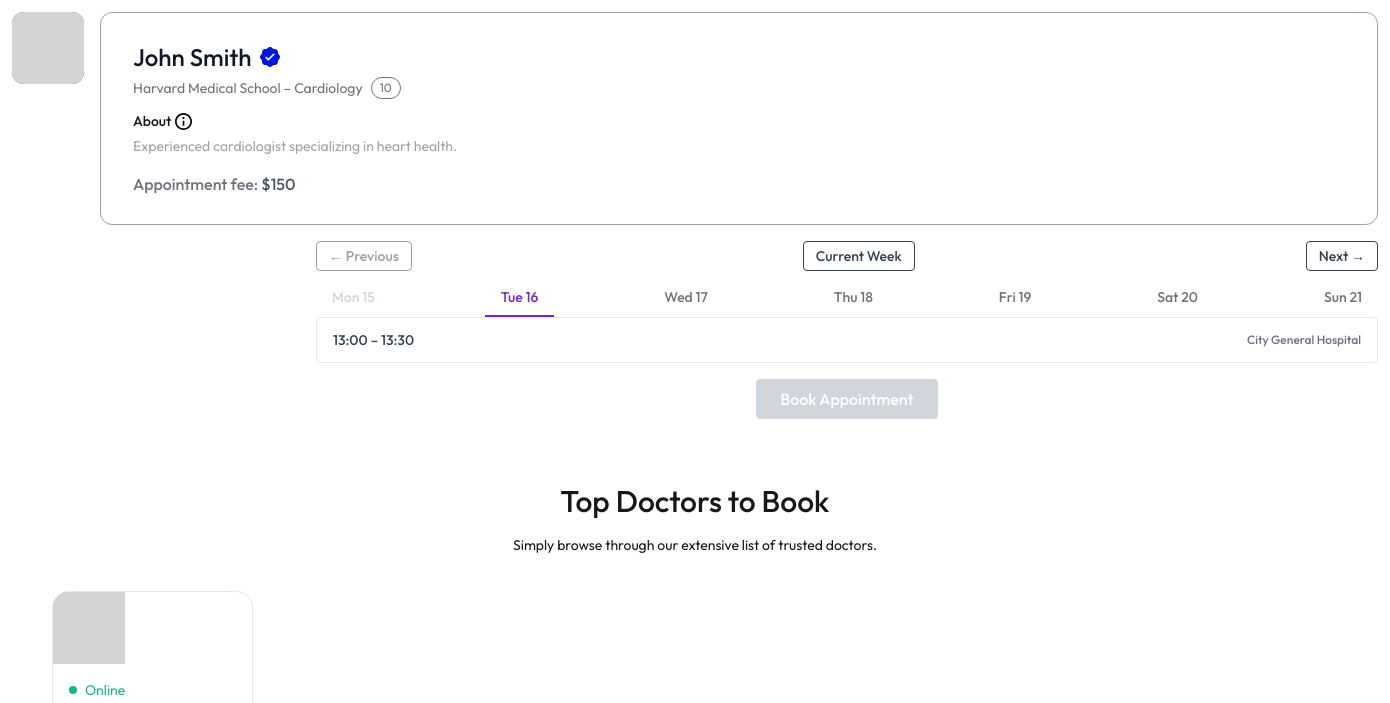
Test case: Appointment Booking Flow › should successfully book an appointment
expect the text "John Smith" is shown: met, box [133, 42, 280, 72]
expect the text "$150" is shown: met, box [261, 174, 296, 194]
Click the button "13:00 – 13:30 City General Hospital" at (350, 340), box [316, 317, 1378, 363]
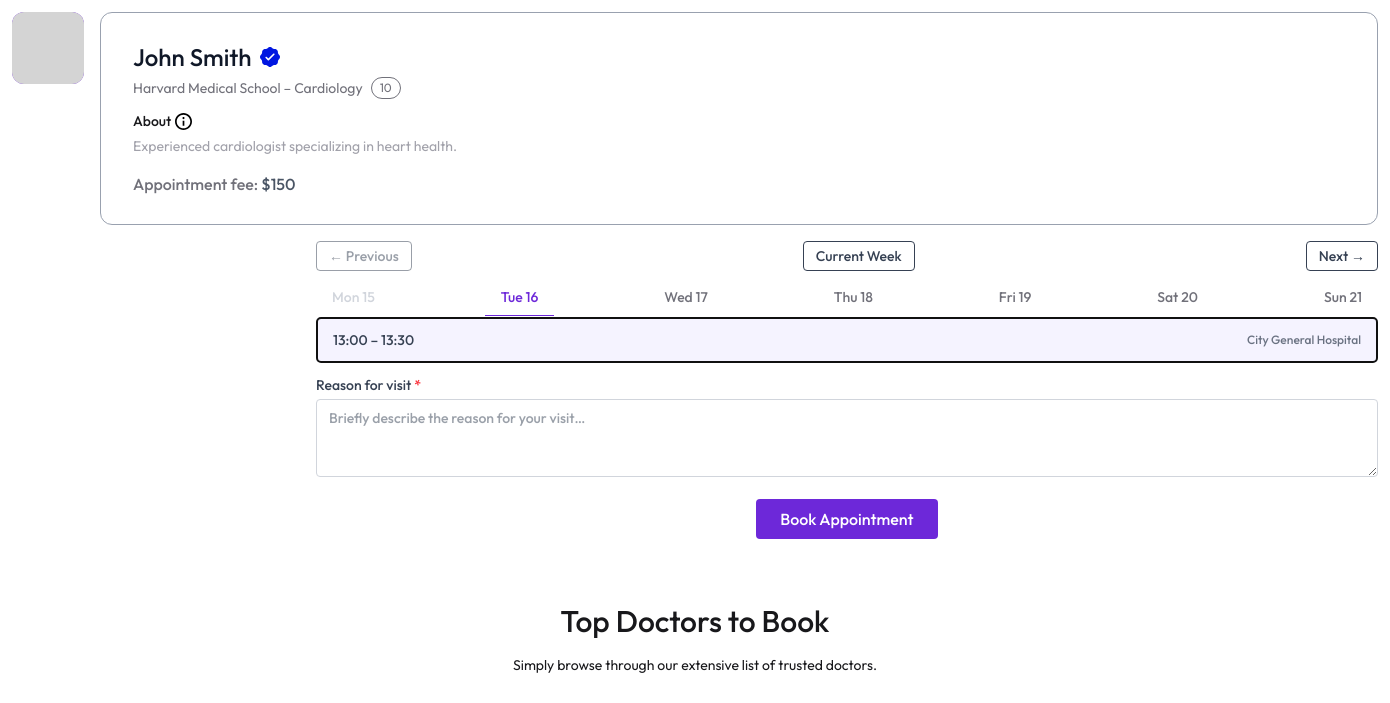
expect the text box labelled "Reason for visit *" is shown: met
Type "Chest pain consultation" into the text box labelled "Reason for visit *" at (847, 438), box [316, 399, 1378, 477]
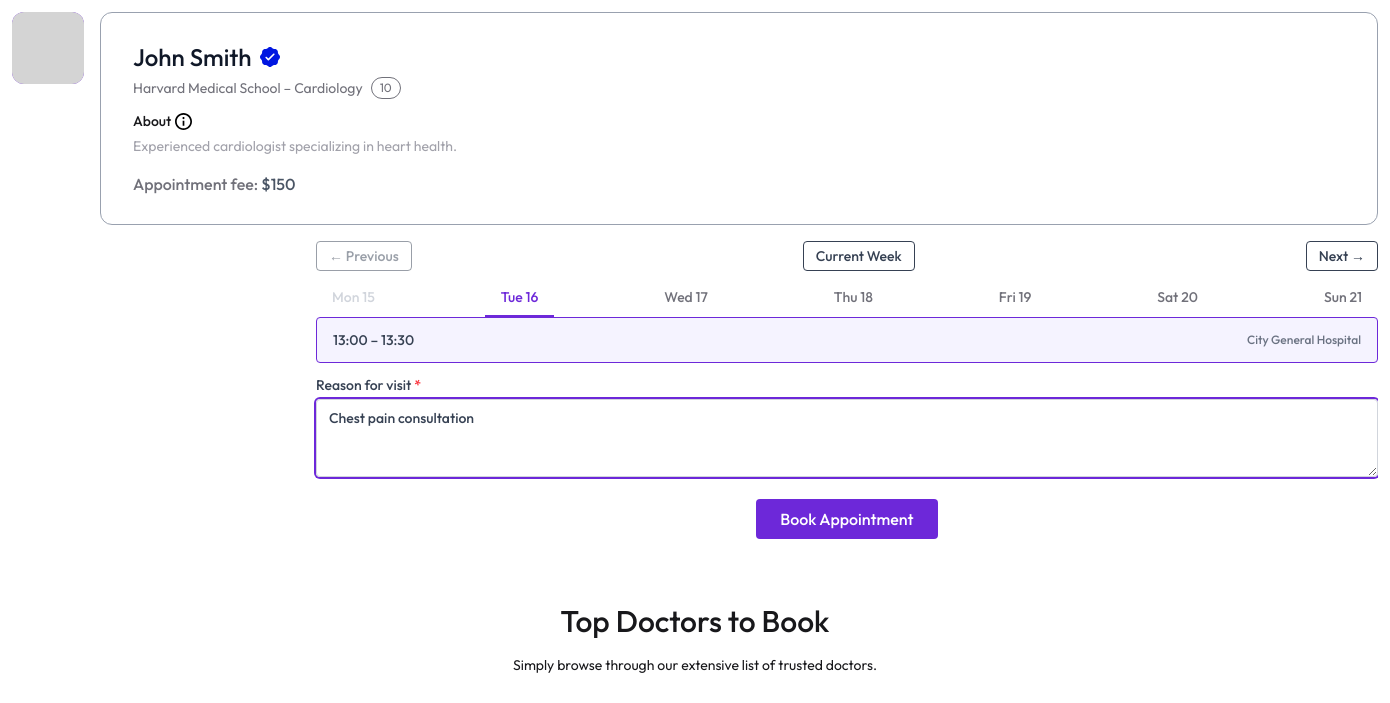
Click the button "Book Appointment" at (847, 519), box [756, 499, 938, 539]
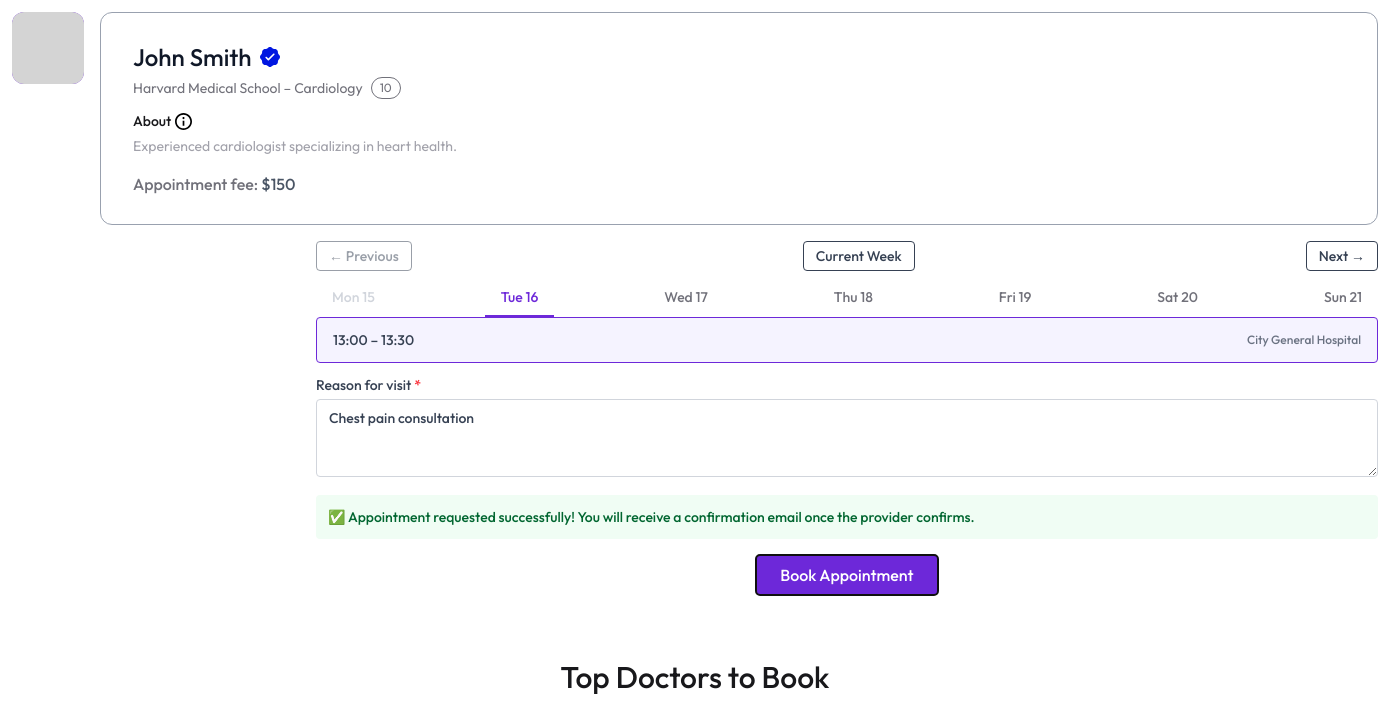
expect the text "Appointment requested successfully" is shown: met, box [328, 508, 975, 526]
